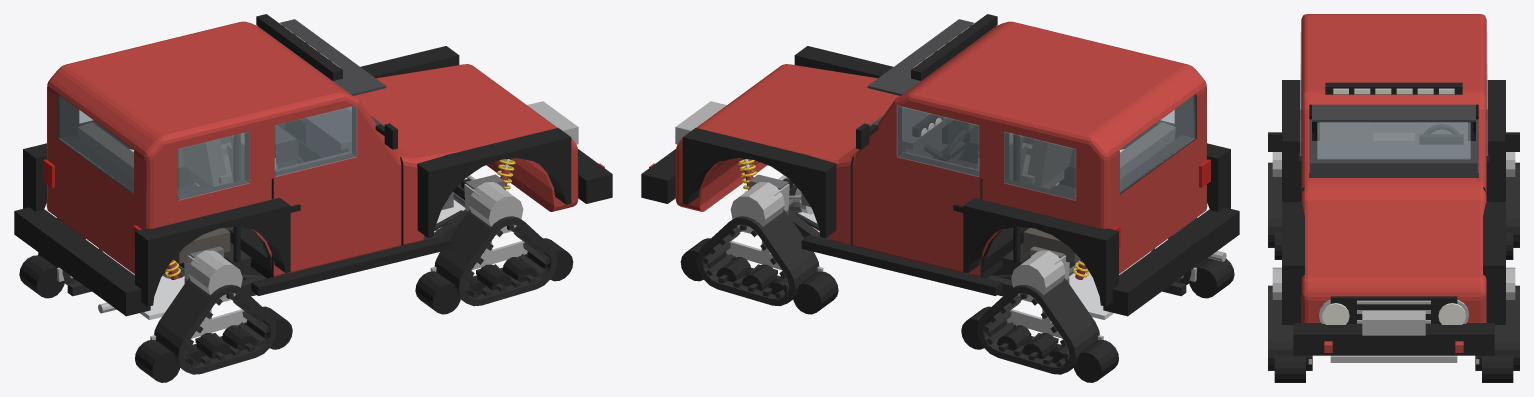
The model's file is snow_truck.glb.
3 views of the same model, side by side, from view 1: azimuth 30°, elevation 25°; view 2: azimuth 150°, elevation 25°; view 3: azimuth 270°, elevation 25° (orthographic). The views are drawn at different scales.
Visible parts, largest first — view 1: BodyShell, Flare.001, Flare.003, RearBumper, Track_RR_Belt, Track_FR_Belt, Glass_SideF.001, Glass_SideR.001, Glass_Rear, RockSlider.001, Headliner, Flare (+26 smaller); view 2: BodyShell, Flare, Flare.002, RearBumper, Track_RL_Belt, Track_FL_Belt, Glass_SideF, Glass_SideR, Glass_Rear, RockSlider, Headliner, Flare.001 (+26 smaller); view 3: BodyShell, Glass_Windshield, FrontBumper, DashTop, Headliner, Flare, Flare.001, Flare.002, Flare.003, GrillePanel, Winch, Dash (+24 smaller).
Part boxes in pixels (box(x1,y1,x2,y2)): BodyShell: box(46, 21, 578, 278); Flare.001: box(417, 128, 571, 238); Flare.003: box(135, 197, 290, 306); RearBumper: box(14, 207, 150, 316); Track_RR_Belt: box(154, 278, 276, 374); Track_FR_Belt: box(434, 209, 557, 306); Glass_SideF.001: box(275, 105, 356, 176); Glass_SideR.001: box(178, 132, 249, 200); Glass_Rear: box(58, 95, 133, 192); RockSlider.001: box(251, 235, 452, 295); Headliner: box(260, 19, 386, 95); Flare: box(360, 46, 459, 78); BodyShell: box(675, 21, 1207, 278); Flare: box(682, 128, 836, 238); Flare.002: box(963, 197, 1118, 306); RearBumper: box(1103, 207, 1239, 316); Track_RL_Belt: box(977, 278, 1099, 374); Track_FL_Belt: box(696, 209, 819, 306); Glass_SideF: box(897, 105, 978, 176); Glass_SideR: box(1004, 132, 1075, 200); Glass_Rear: box(1120, 95, 1195, 192); RockSlider: box(801, 235, 1002, 295); Headliner: box(867, 19, 993, 95); Flare.001: box(794, 46, 893, 77); BodyShell: box(1301, 14, 1486, 322); Glass_Windshield: box(1317, 122, 1470, 159); FrontBumper: box(1293, 323, 1494, 355); DashTop: box(1310, 141, 1477, 169); Headliner: box(1312, 104, 1475, 121); Flare: box(1483, 203, 1505, 324); Flare.001: box(1282, 203, 1304, 324); Flare.002: box(1486, 80, 1505, 202); Flare.003: box(1282, 80, 1301, 202); GrillePanel: box(1330, 296, 1457, 323); Winch: box(1362, 310, 1425, 335); Dash: box(1310, 169, 1477, 177).
Bounding box in the file's own units: 4.91 × 2.27 × 2.38.
